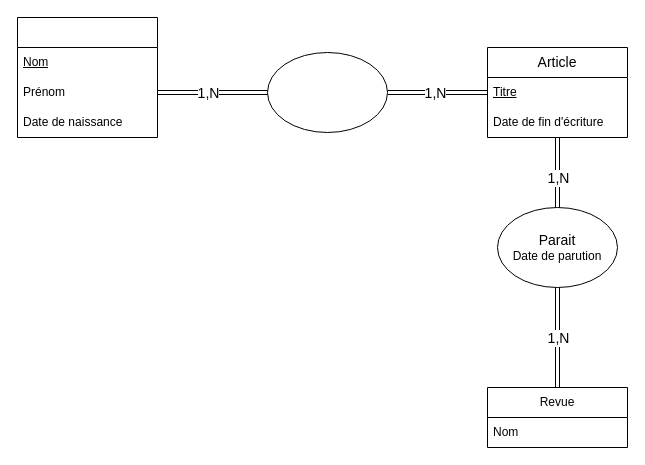
Image size: 645x465. Some labels were removed from this diagram. The box of each missing label's shape, as (x1, y1, x2, y2) in pixels:
Ecrit: (266, 52, 388, 132)
Scientifique: (16, 16, 158, 138)
